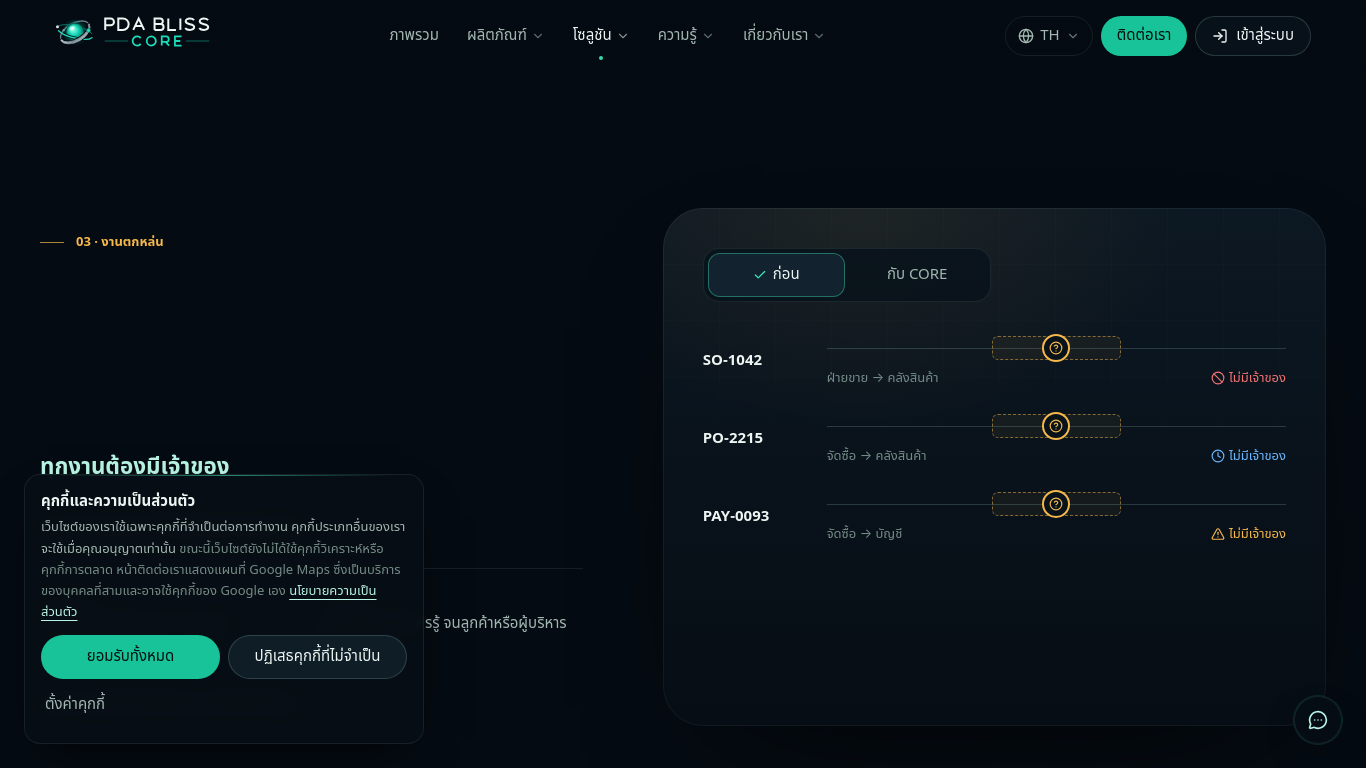
Test case: /solutions page › assigns an owner to work that fell into the gap
(page scrolled)
Expected: the element with id "falling-through" shows "ไม่มีเจ้าของ", x1=1229 y1=368 x2=1286 y2=388
Click the radio button labelled "กับ CORE" at (917, 275), box x1=849 y1=253 x2=986 y2=297
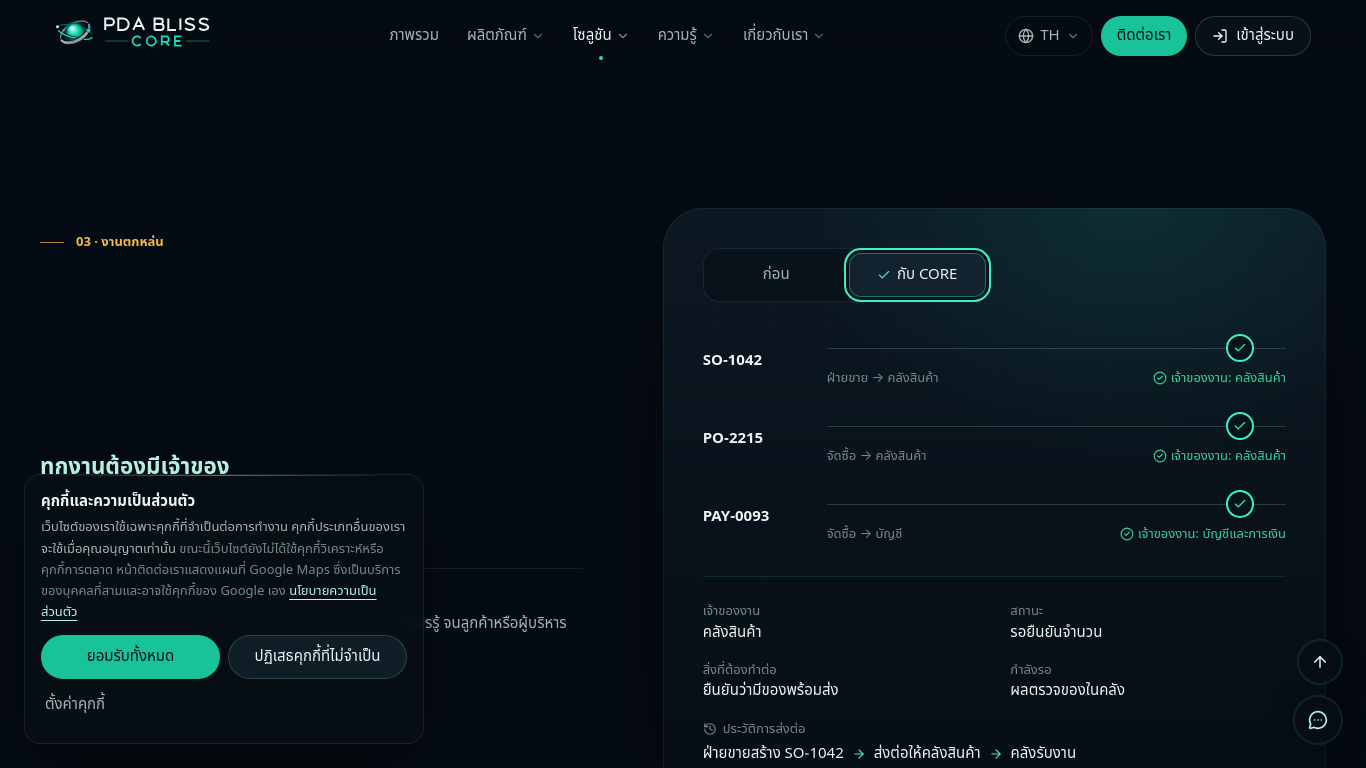
Expected: the text "เจ้าของงาน" is shown, x1=703 y1=601 x2=760 y2=621
Expected: the text "สิ่งที่ต้องทำต่อ" is shown, x1=703 y1=660 x2=777 y2=680
Expected: the text "ประวัติการส่งต่อ" is shown, x1=723 y1=719 x2=806 y2=739
